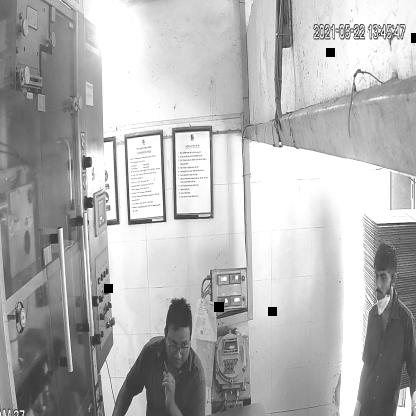goggles: (163, 331, 193, 358)
no_goggles: (370, 268, 395, 287)
